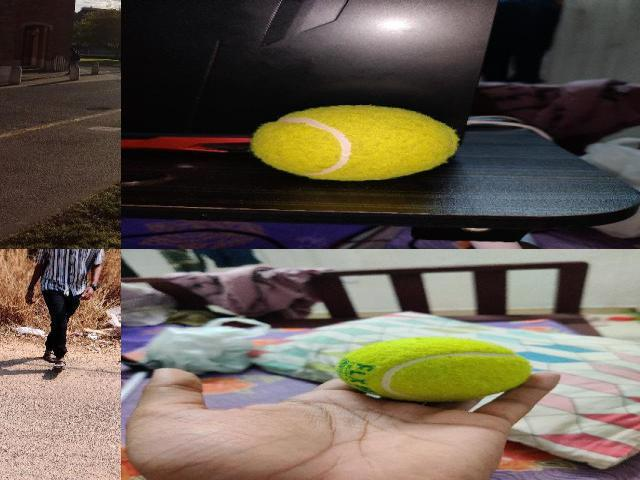tennis-ball: (250, 104, 458, 181), (333, 337, 532, 402)
